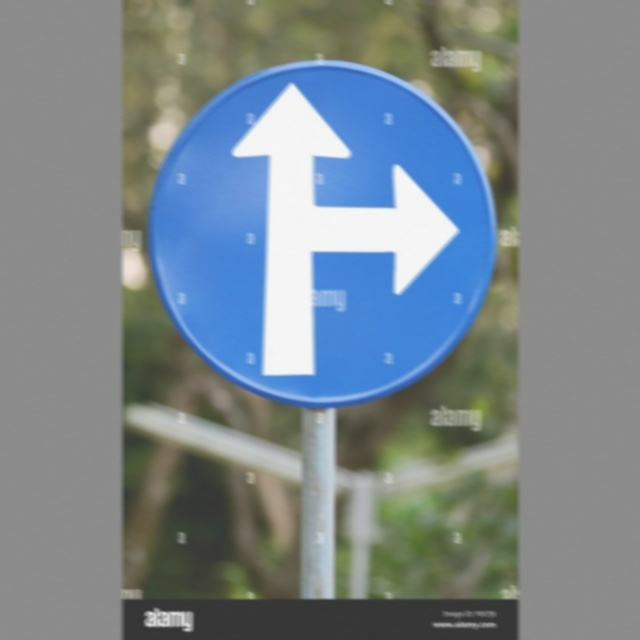Compulsory_Ahead_or_Turn_Right: (151, 57, 486, 403)
